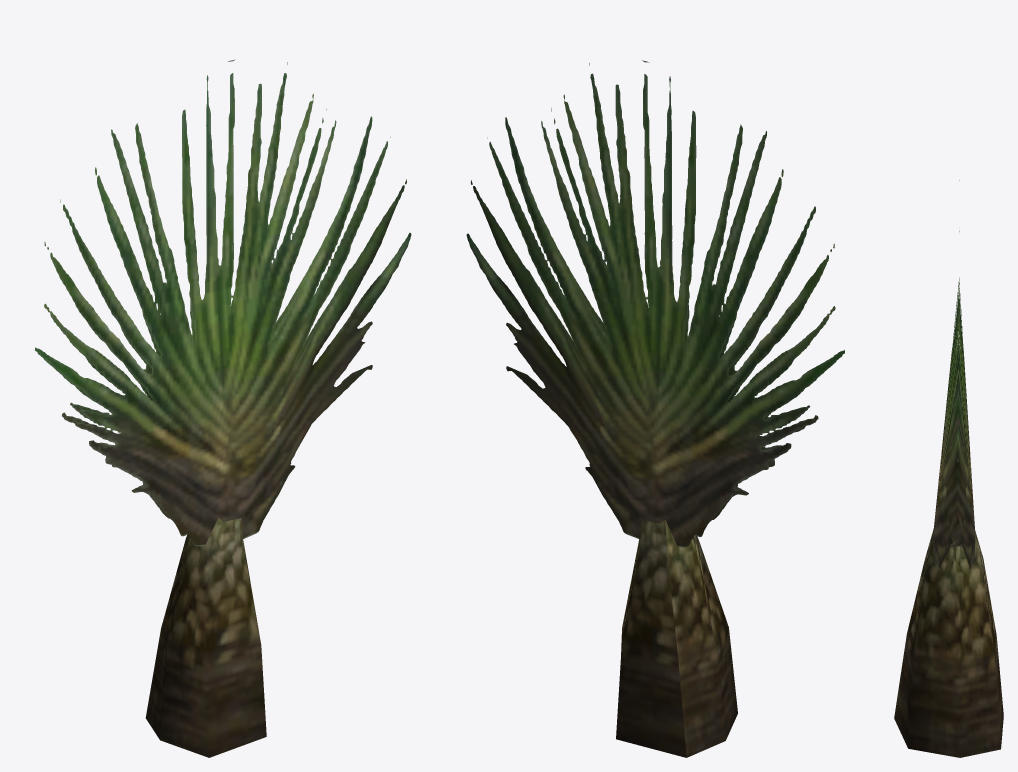
The model's file is 极光世界__晨光平原（东）_神风教分坛_植物_02.FBX.
3 renders of one model, left to right at view 1: azimuth 30°, elevation 25°; view 2: azimuth 150°, elevation 25°; view 3: azimuth 270°, elevation 25°, orthographic. The views are drawn at different scales.
Visible parts, largest first — view 1: DrawCall_0091, DrawCall_0100; view 2: DrawCall_0091, DrawCall_0100; view 3: DrawCall_0100, DrawCall_0091.
Boxes of the visible parts, x1,y1,x2,y2 form: DrawCall_0091: (35, 59, 411, 546); DrawCall_0100: (145, 518, 266, 757); DrawCall_0091: (466, 60, 844, 547); DrawCall_0100: (616, 519, 737, 757); DrawCall_0100: (894, 519, 1003, 757); DrawCall_0091: (933, 180, 975, 569).
Bounding box in the file's own units: 11.18 × 17.24 × 2.72.
